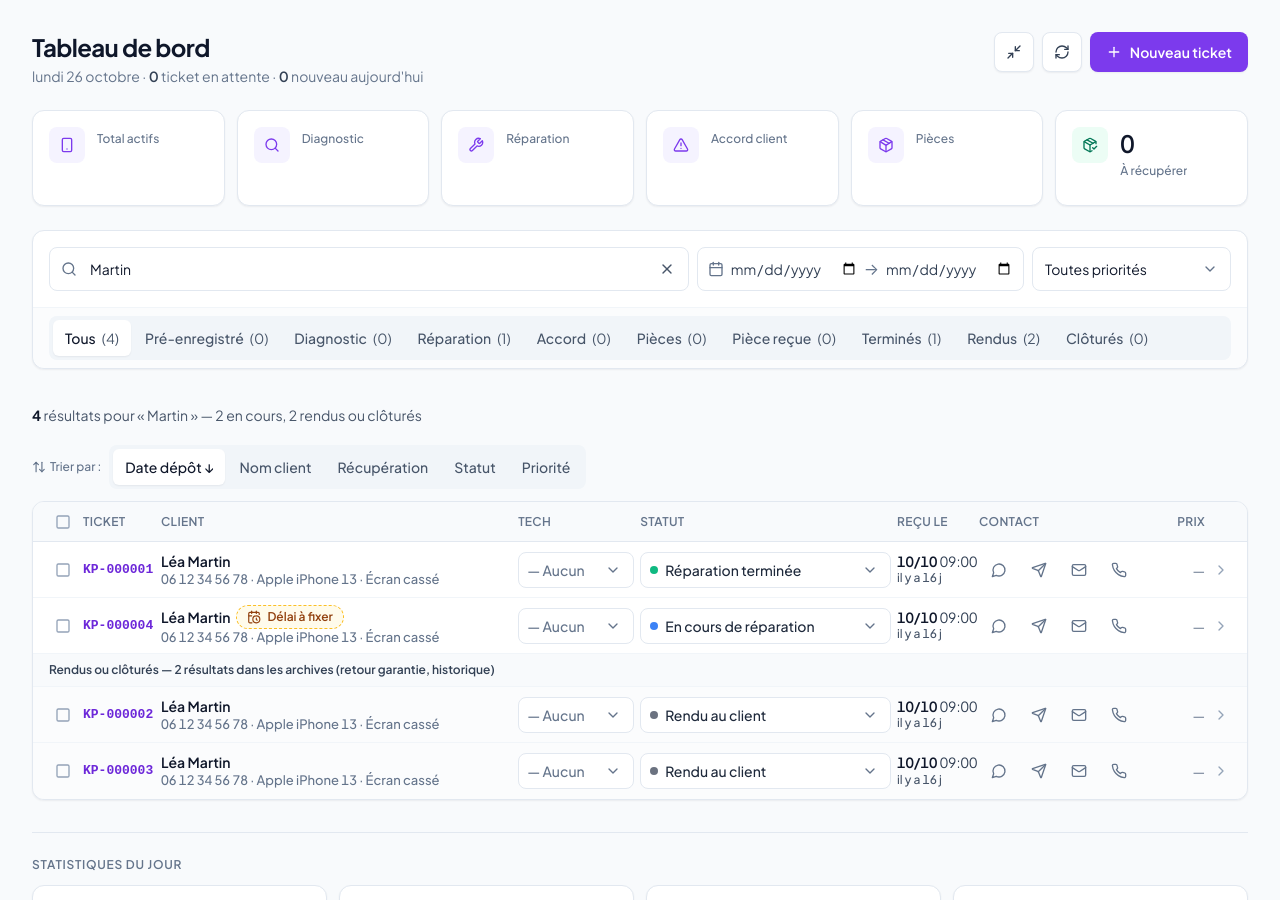
DashboardPage : statut en ligne › le panneau s’ouvre sur le ticket sans résoudre le code ni le marquer vérifié
This screenshot has width=1280, height=900.
Select "Clôturé" in the dropdown named "Statut du ticket KP-000001" at (766, 570), box [640,552,891,588]
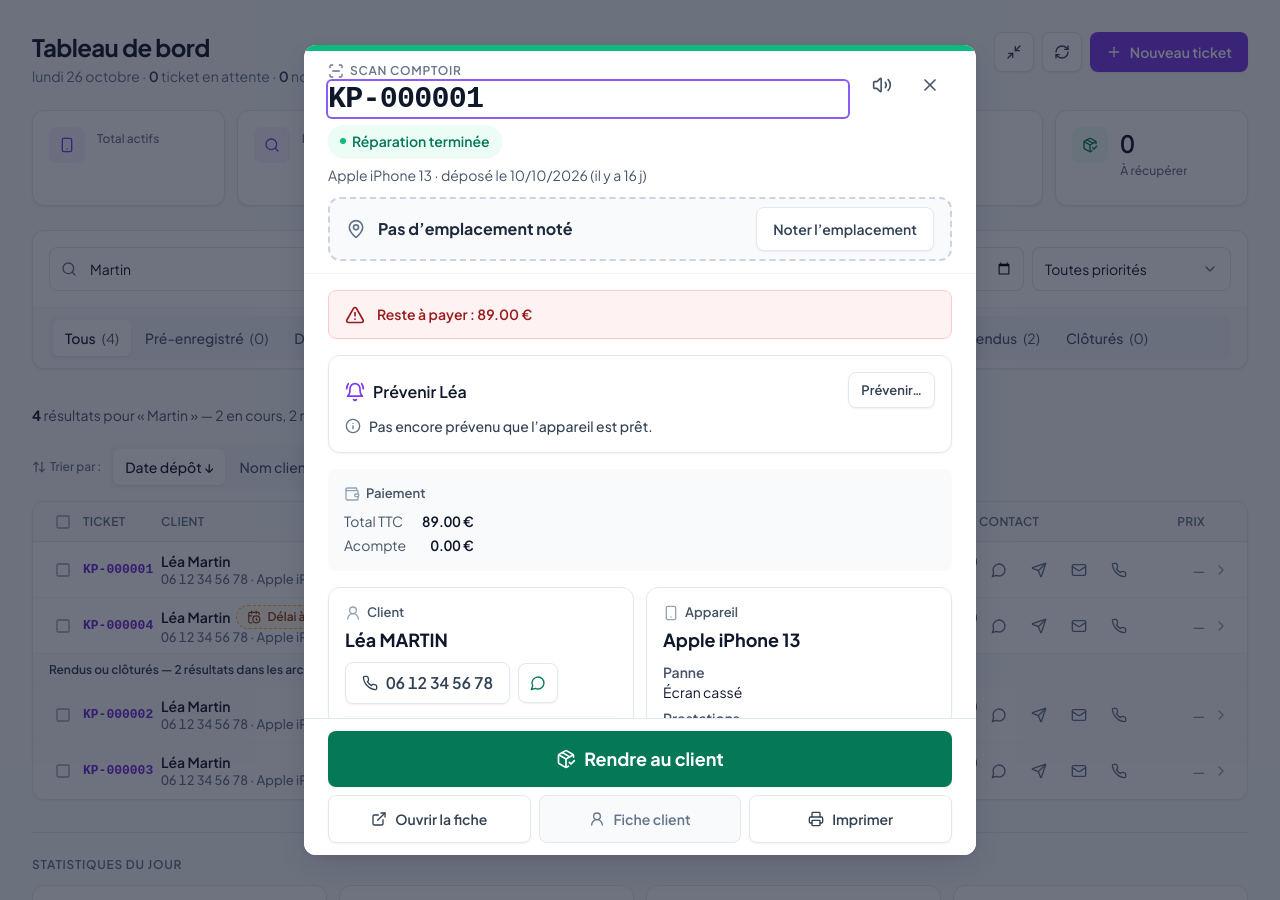
Now the heading "KP-000001" is shown, box [328,81,848,117]
Now the button "Rendre au client" is shown, box [328,731,952,787]
